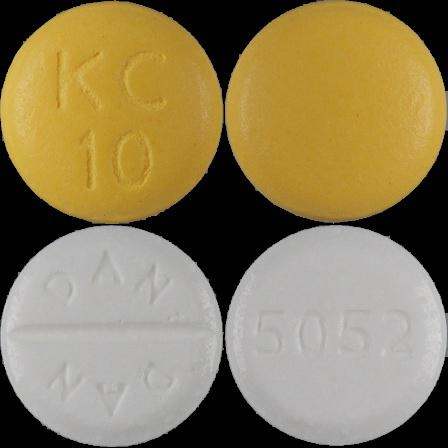0440-8110: (0, 0, 224, 224)
